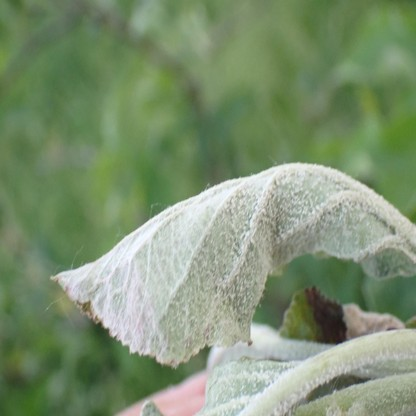powder: (48, 162, 416, 369), (142, 356, 304, 415), (297, 371, 416, 416)
